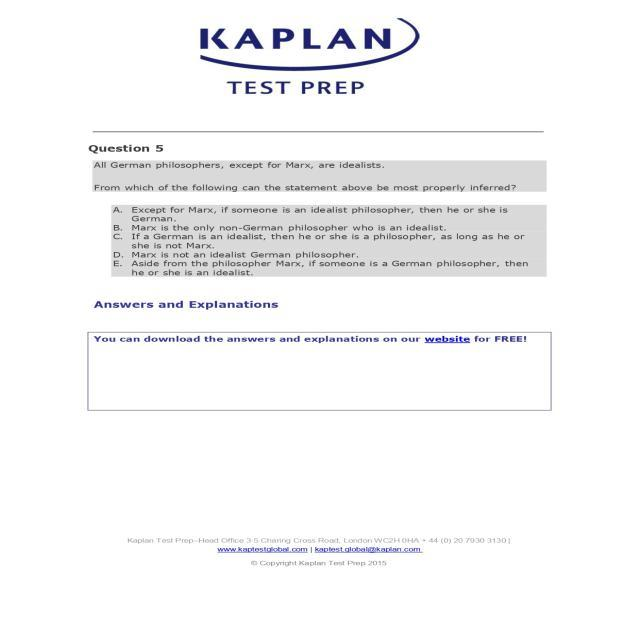Answer_Block: (108, 201, 550, 278)
Description: (84, 298, 550, 410)
Question_Answer_Block: (84, 133, 550, 292)
Question_Block: (84, 133, 550, 201)
Question_Paper_Area: (84, 133, 550, 410)
